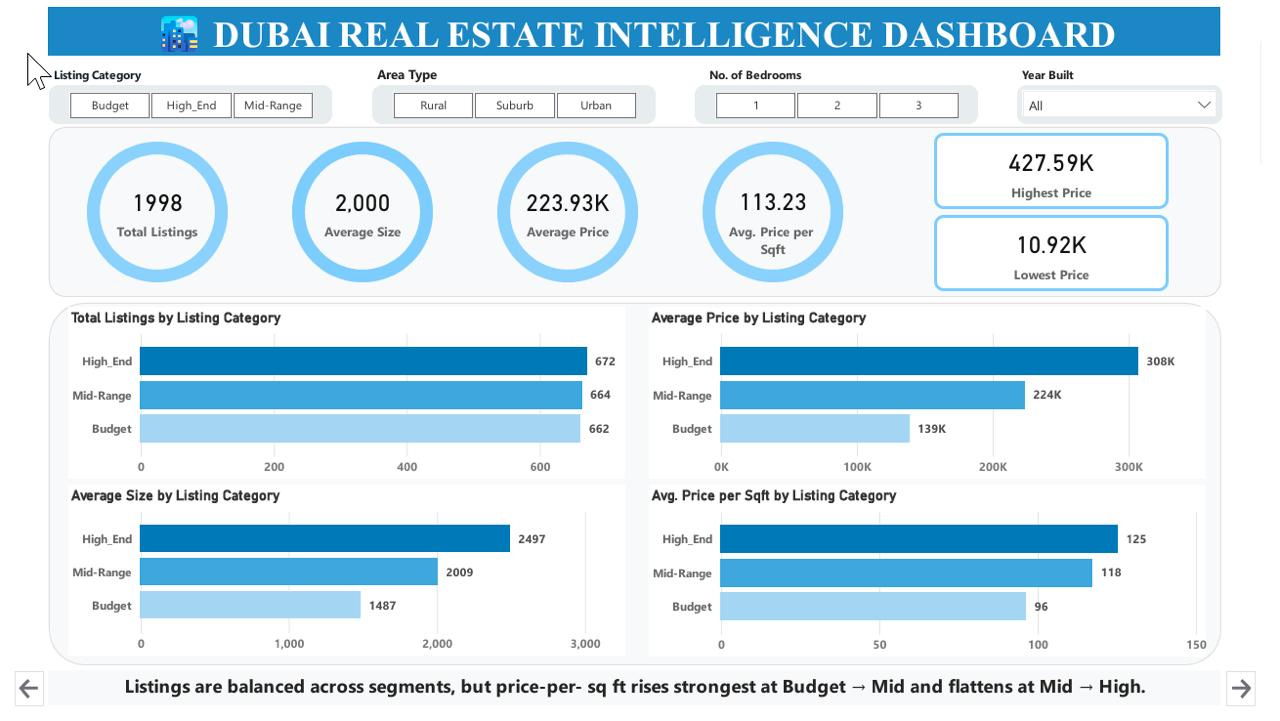

This screenshot's page, from the dashboard's own definition file:
{"tool":"powerbi","page":{"name":"Market Overview","canvas":[1280,720],"ordinal":0},"visuals":[{"type":"textbox","title":"🏙️ DUBAI REAL ESTATE INTELLIGENCE DASHBOARD","box":[39,1,1200,50],"z":0},{"type":"slicer","fields":{"Values":["housing_price_dataset.Listing Category"]},"box":[39,80,290,40],"z":1000},{"type":"slicer","fields":{"Values":["housing_price_dataset.Area Type"]},"box":[370,80,290,40],"z":2000},{"type":"slicer","fields":{"Values":["housing_price_dataset.No. of Bathrooms"]},"box":[700,80,290,40],"z":3000},{"type":"slicer","fields":{"Values":["housing_price_dataset.Year Built"]},"box":[1030,80,210,40],"z":4000},{"type":"textbox","box":[39,60,130,20],"z":5000},{"type":"textbox","box":[370,60,130,20],"z":6000},{"type":"textbox","box":[710,60,140,20],"z":7000},{"type":"textbox","box":[1030,60,130,20],"z":8000},{"type":"shape","box":[39,123,1200,174],"z":9000},{"type":"donutChart","fields":{"Y":["Measure.Total Listings"]},"box":[690,120,180,180],"z":10000},{"type":"donutChart","fields":{"Y":["Measure.Total Listings"]},"box":[480,120,180,180],"z":11000},{"type":"donutChart","fields":{"Y":["Measure.Average Size"]},"box":[270,120,180,180],"z":12000},{"type":"donutChart","fields":{"Y":["Measure.Total Listings"]},"box":[60,120,180,180],"z":13000},{"type":"card","fields":{"Values":["Measure.Total Listings"]},"box":[100,177,100,62.9],"z":14000},{"type":"card","fields":{"Values":["Measure.Average Size"]},"box":[310,177,100,62.9],"z":15000},{"type":"card","fields":{"Values":["Measure.Average Price"]},"box":[520,177,100,62.9],"z":16000},{"type":"card","fields":{"Values":["Measure.Avg. Price per Sqft"]},"box":[730,135.7,100,144.3],"z":17000},{"type":"card","fields":{"Values":["Measure.Highest Price"]},"box":[945,129,240,78],"z":18000},{"type":"card","fields":{"Values":["Measure.Lowest Price"]},"box":[945,213,240,78],"z":19000},{"type":"shape","box":[39,303,1200,371],"z":20000},{"type":"clusteredBarChart","fields":{"Y":["Measure.Total Listings"],"Category":["housing_price_dataset.Listing Category"]},"box":[60,308,570,176],"z":21000},{"type":"clusteredBarChart","fields":{"Category":["housing_price_dataset.Listing Category"],"Y":["Measure.Average Size"]},"box":[60,490,570,175],"z":22000},{"type":"clusteredBarChart","fields":{"Category":["housing_price_dataset.Listing Category"],"Y":["Measure.Average Price"]},"box":[654.3,308,570,175.7],"z":23000},{"type":"clusteredBarChart","fields":{"Category":["housing_price_dataset.Listing Category"],"Y":["Measure.Avg. Price per Sqft"]},"box":[654.3,490,570,175.7],"z":24000},{"type":"textbox","box":[39,680,1200,36],"z":25000},{"type":"actionButton","box":[4,680,30,36],"z":26000},{"type":"actionButton","box":[1244,680,30,36],"z":27000}]}

Visuals, with their boxes in screenshot pixels (x1, y1, x2, y2), scaled from the page's 1280x720 canvas onto the 1280x721 screenshot:
"🏙️ DUBAI REAL ESTATE INTELLIGENCE DASHBOARD" textbox: crop(39, 1, 1239, 51)
slicer - housing_price_dataset.Listing Category: crop(39, 80, 329, 120)
slicer - housing_price_dataset.Area Type: crop(370, 80, 660, 120)
slicer - housing_price_dataset.No. of Bathrooms: crop(700, 80, 990, 120)
slicer - housing_price_dataset.Year Built: crop(1030, 80, 1240, 120)
textbox: crop(39, 60, 169, 80)
textbox: crop(370, 60, 500, 80)
textbox: crop(710, 60, 850, 80)
textbox: crop(1030, 60, 1160, 80)
shape: crop(39, 123, 1239, 297)
donutChart - Measure.Total Listings: crop(690, 120, 870, 300)
donutChart - Measure.Total Listings: crop(480, 120, 660, 300)
donutChart - Measure.Average Size: crop(270, 120, 450, 300)
donutChart - Measure.Total Listings: crop(60, 120, 240, 300)
card - Measure.Total Listings: crop(100, 177, 200, 240)
card - Measure.Average Size: crop(310, 177, 410, 240)
card - Measure.Average Price: crop(520, 177, 620, 240)
card - Measure.Avg. Price per Sqft: crop(730, 136, 830, 280)
card - Measure.Highest Price: crop(945, 129, 1185, 207)
card - Measure.Lowest Price: crop(945, 213, 1185, 291)
shape: crop(39, 303, 1239, 675)
clusteredBarChart - Measure.Total Listings x housing_price_dataset.Listing Category: crop(60, 308, 630, 485)
clusteredBarChart - housing_price_dataset.Listing Category x Measure.Average Size: crop(60, 491, 630, 666)
clusteredBarChart - housing_price_dataset.Listing Category x Measure.Average Price: crop(654, 308, 1224, 484)
clusteredBarChart - housing_price_dataset.Listing Category x Measure.Avg. Price per Sqft: crop(654, 491, 1224, 667)
textbox: crop(39, 681, 1239, 717)
actionButton: crop(4, 681, 34, 717)
actionButton: crop(1244, 681, 1274, 717)
